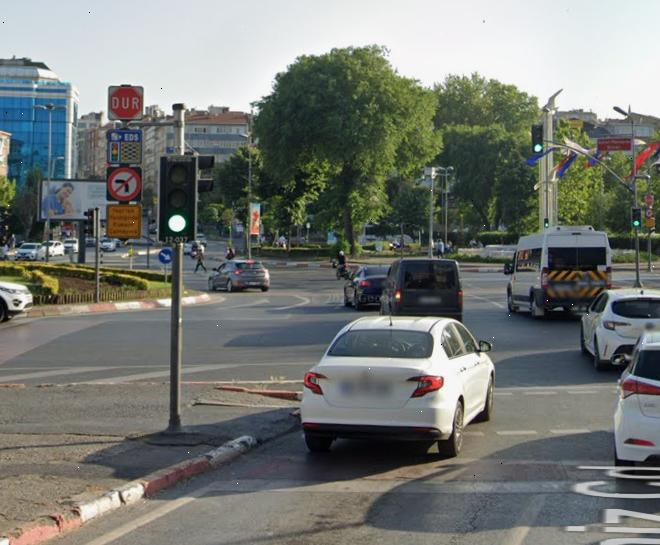greenlight: (160, 156, 197, 244), (530, 124, 544, 156), (631, 206, 640, 229), (543, 217, 551, 228)
leftturnsareforbidden: (108, 168, 141, 201)
rightturnsareforbidden: (646, 208, 654, 217)
stop: (109, 85, 143, 120), (645, 194, 655, 206)
